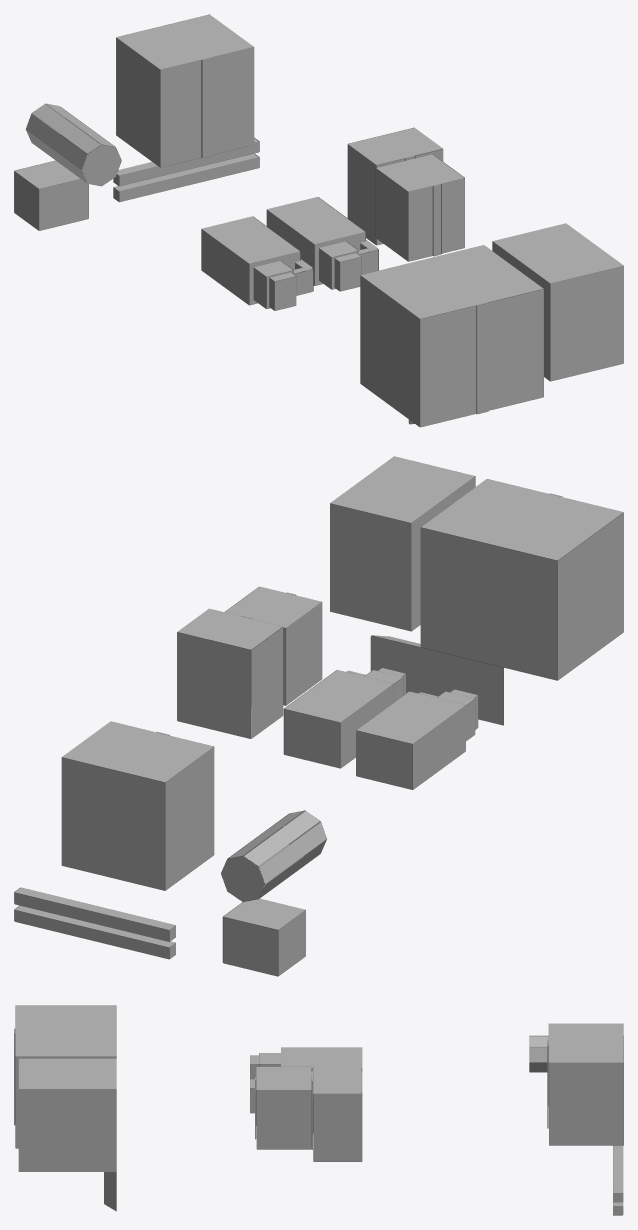
File: contents_books_misc_02_24.obj
3 renders of one model, top to bottom at view 1: azimuth 30°, elevation 25°; view 2: azimuth 150°, elevation 25°; view 3: azimuth 270°, elevation 25°, orthographic. The views are drawn at different scales.
Parts seen in each view (by area): view 1: contents_books_misc_02_24; view 2: contents_books_misc_02_24; view 3: contents_books_misc_02_24.
Part boxes in pixels (box(x1,y1,x2,y2)): contents_books_misc_02_24: box(14, 14, 623, 427); contents_books_misc_02_24: box(14, 456, 623, 976); contents_books_misc_02_24: box(14, 1005, 623, 1215).
Bounding box in the file's own units: 0.755 × 0.475 × 1.86.
1 material, 1 textured.
